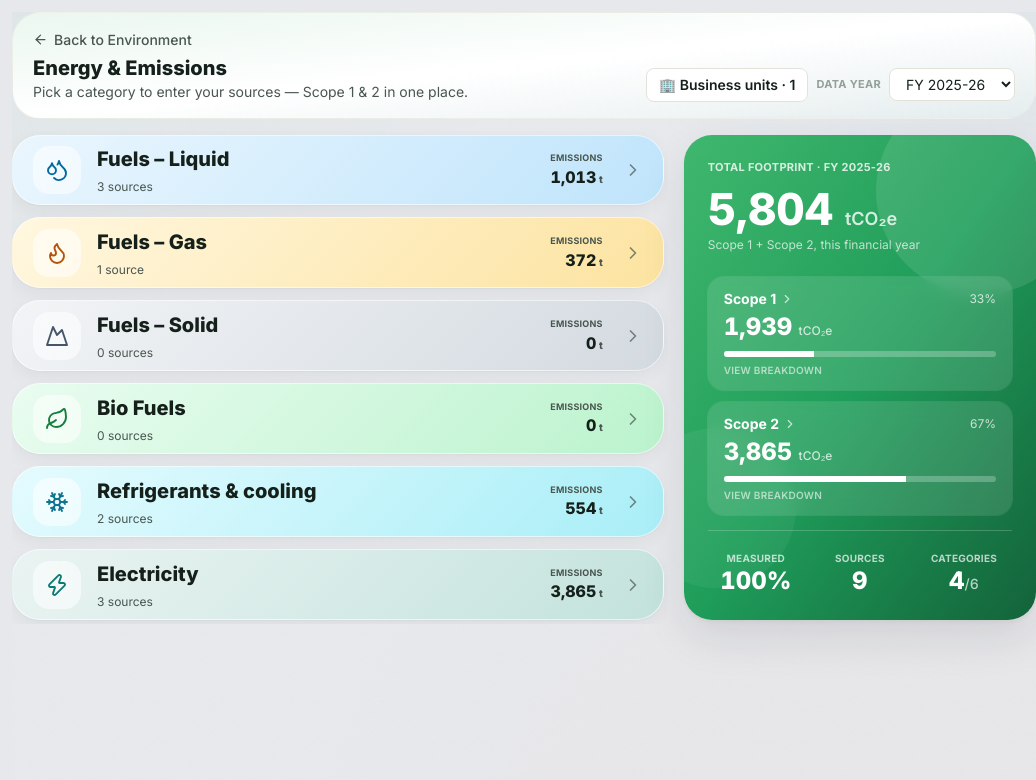
ActivityDataTab — Task 2: BU mode removal › electricity shows a Company-wide row plus each BU
Click the text "Electricity" at [148, 574], box 97,562 -> 199,586
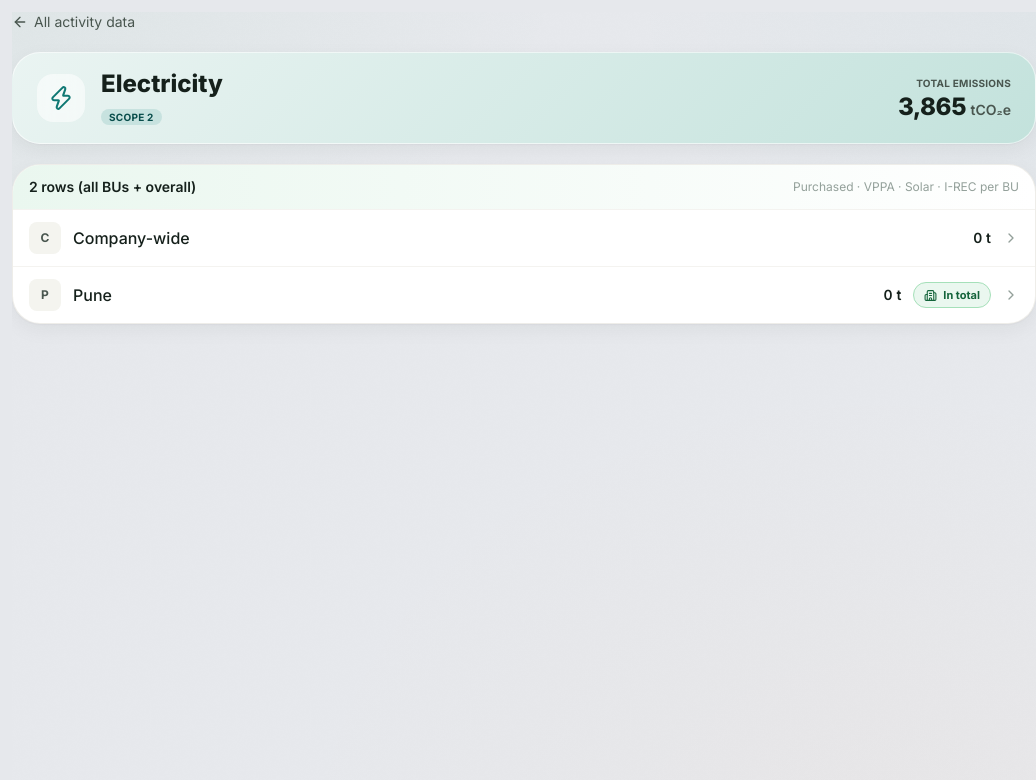
Expected: the button "Company-wide" is shown, 73,226 -> 899,250
Expected: the button "Pune" is shown, 73,283 -> 809,307
